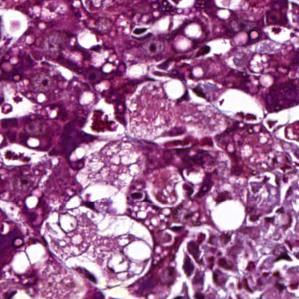ballooning: (40, 181, 155, 292)
